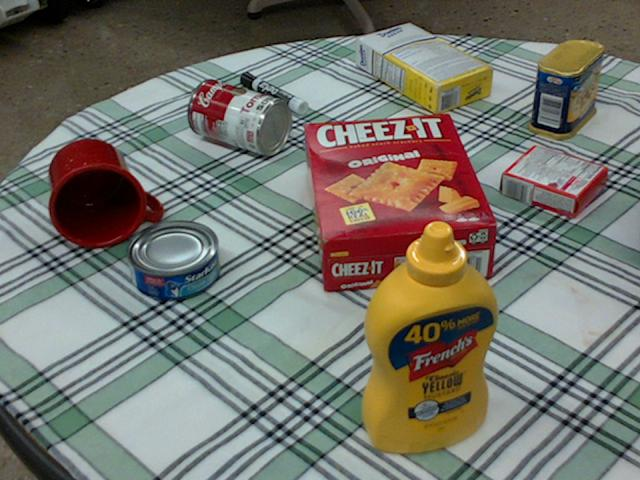cracker_box: (306, 113, 498, 288)
gelatin_box: (499, 145, 604, 215)
large_marker: (239, 72, 306, 113)
mug: (47, 138, 160, 247)
mustard_bottle: (363, 219, 501, 451)
potted_meat_can: (527, 40, 601, 139)
sugar_box: (356, 23, 495, 113)
tomato_soup_can: (186, 77, 291, 153)
tuna_fish_can: (124, 219, 218, 299)
